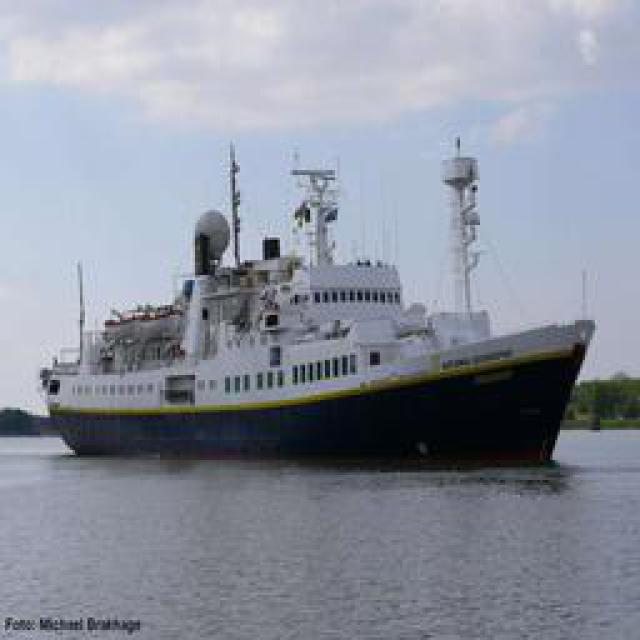Ship: (39, 126, 592, 464)
